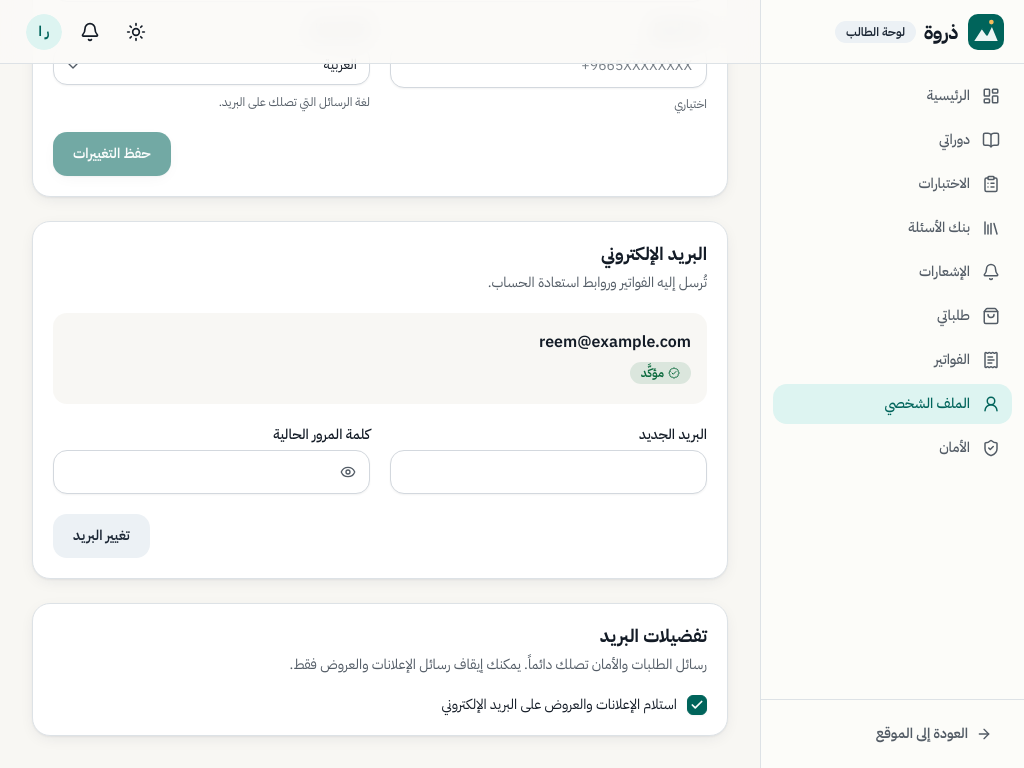
Scenario: profile page › requires the current password to change email
(page scrolled)
Type "new@example.com" into the field labelled "البريد الجديد" at (548, 472), box [390, 450, 707, 494]
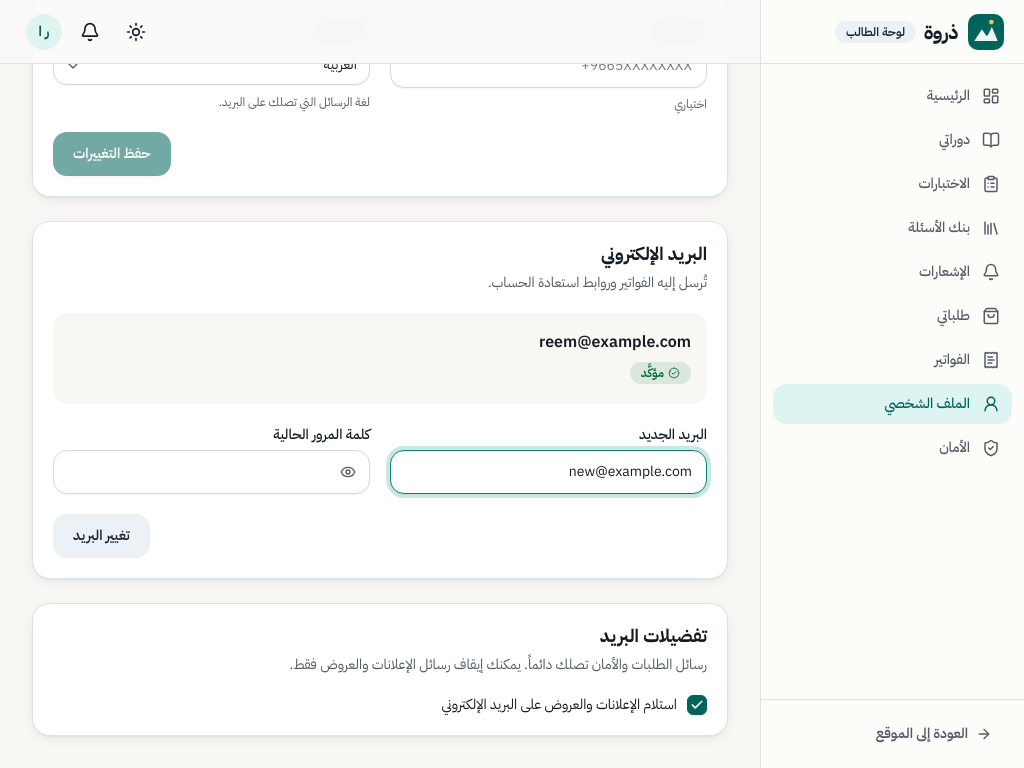
Click the button "تغيير البريد" at (101, 536), box [53, 514, 150, 558]
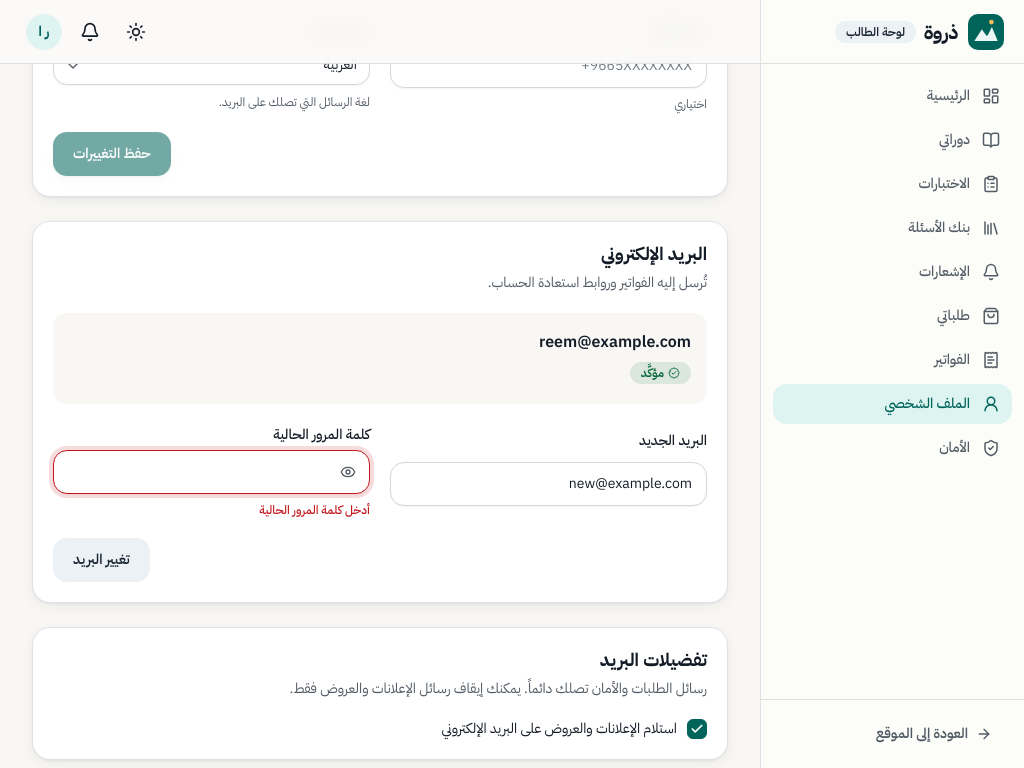
Expected: the text "أدخل كلمة المرور الحالية" is shown, [259, 501, 370, 519]
